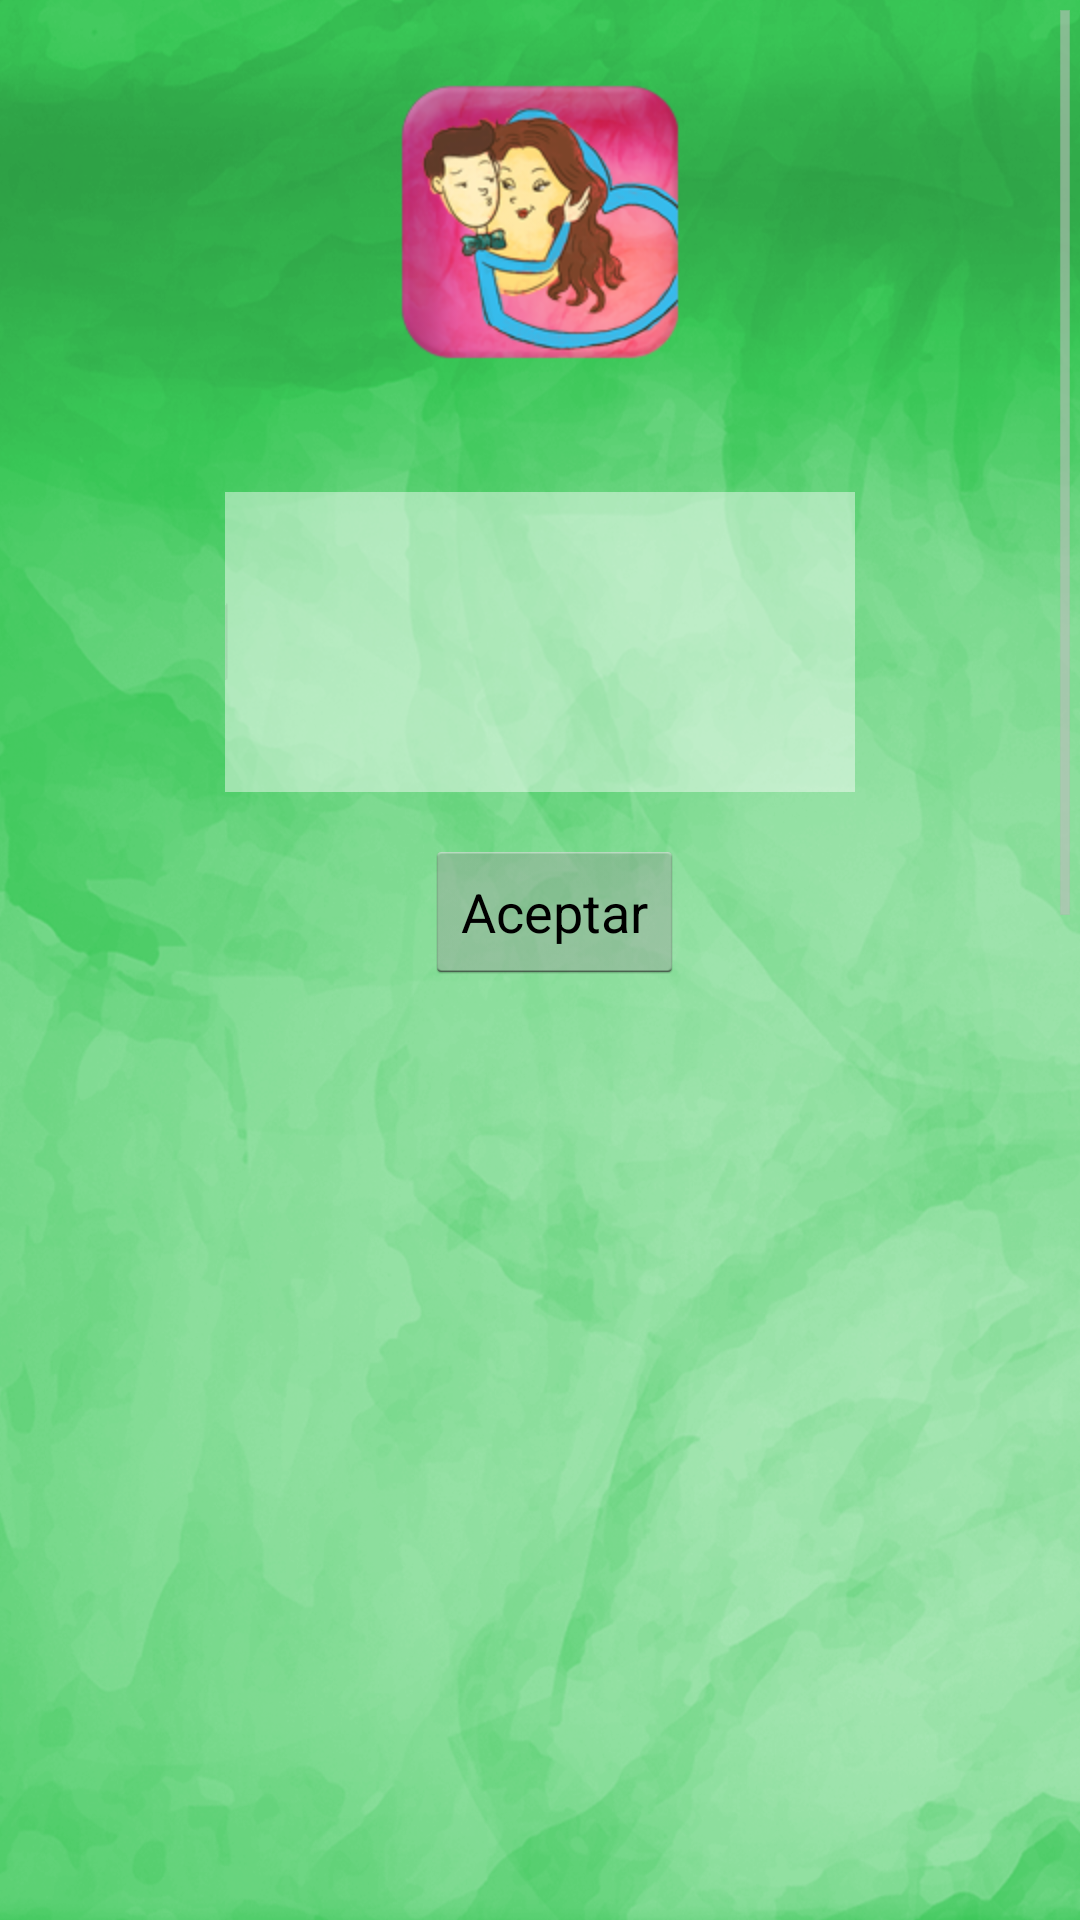

Icons on this 1080w x 1920h Android screen, each with its box as (x1, y1, x2, y2):
appicon: (401, 85, 679, 364)
